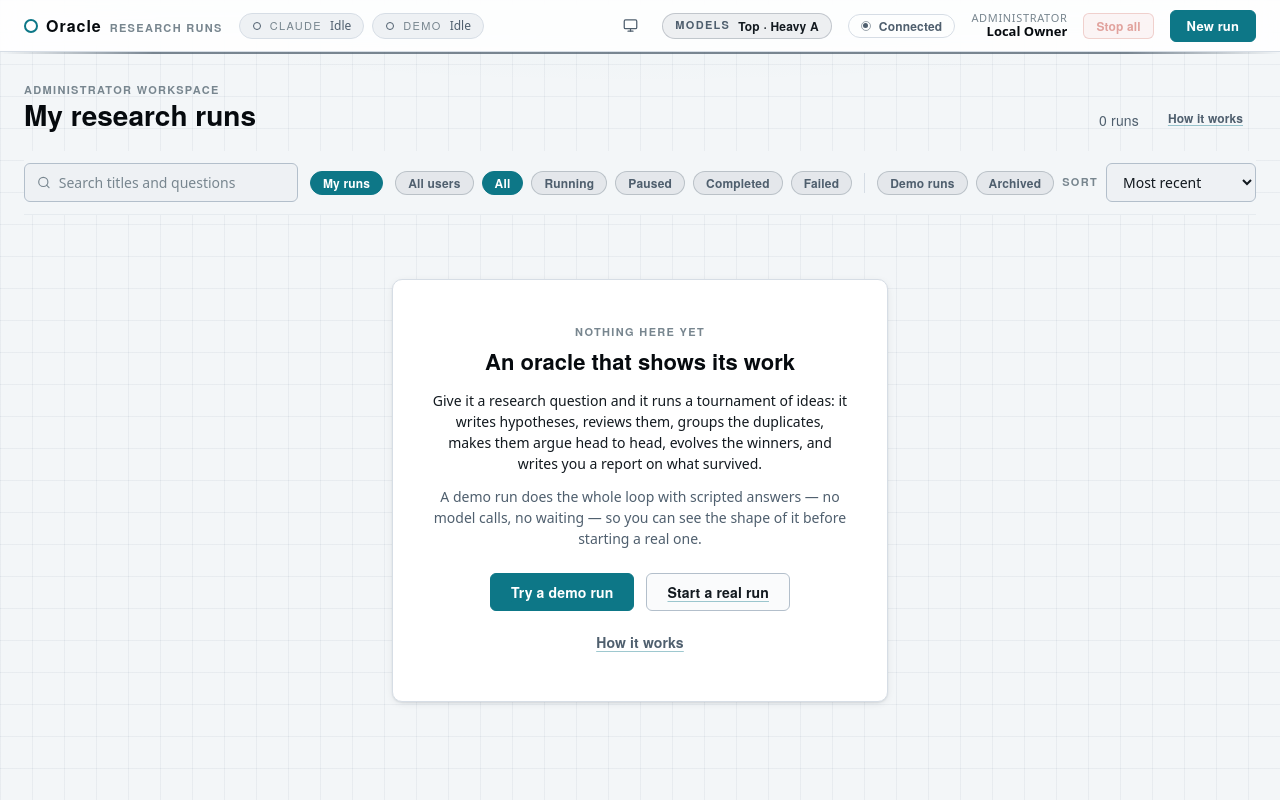
Test case: model editor — editing, resetting and saving › keeps the edit when the panel is closed and opened again
Click the button "Models Top · Heavy A" at [747, 26], box [662,12,832,38]
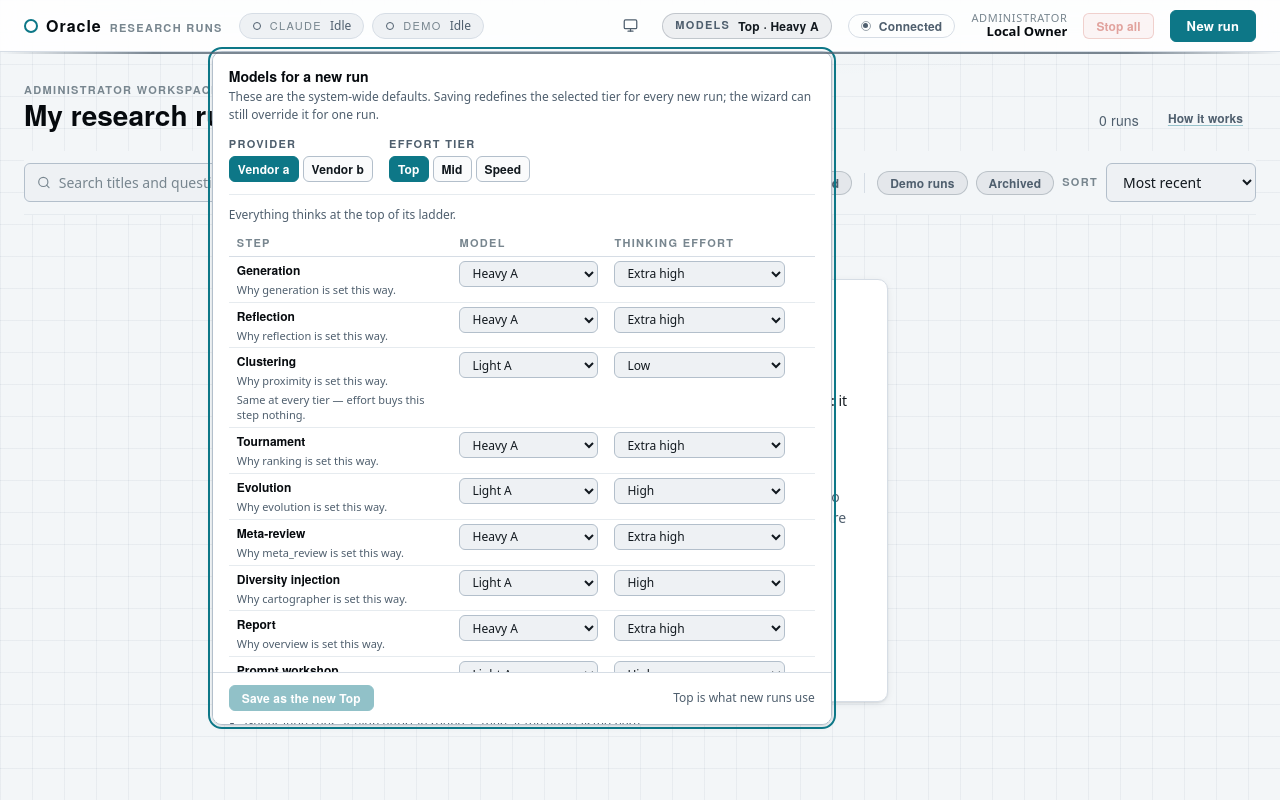
Now the 1st dropdown named "Model for Generation" is shown
Select "Light B" in the 1st dropdown named "Model for Generation" at [529, 274], box [460,261,598,287]
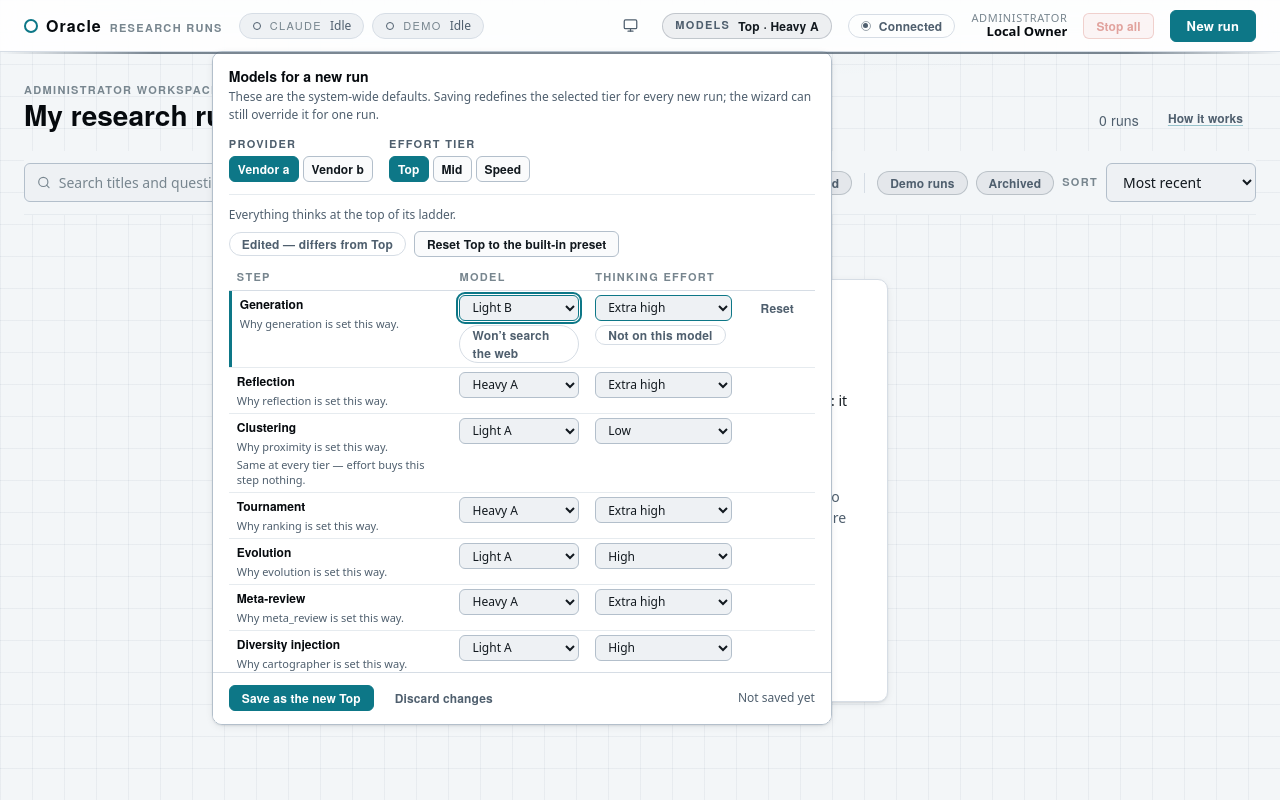
Press Escape
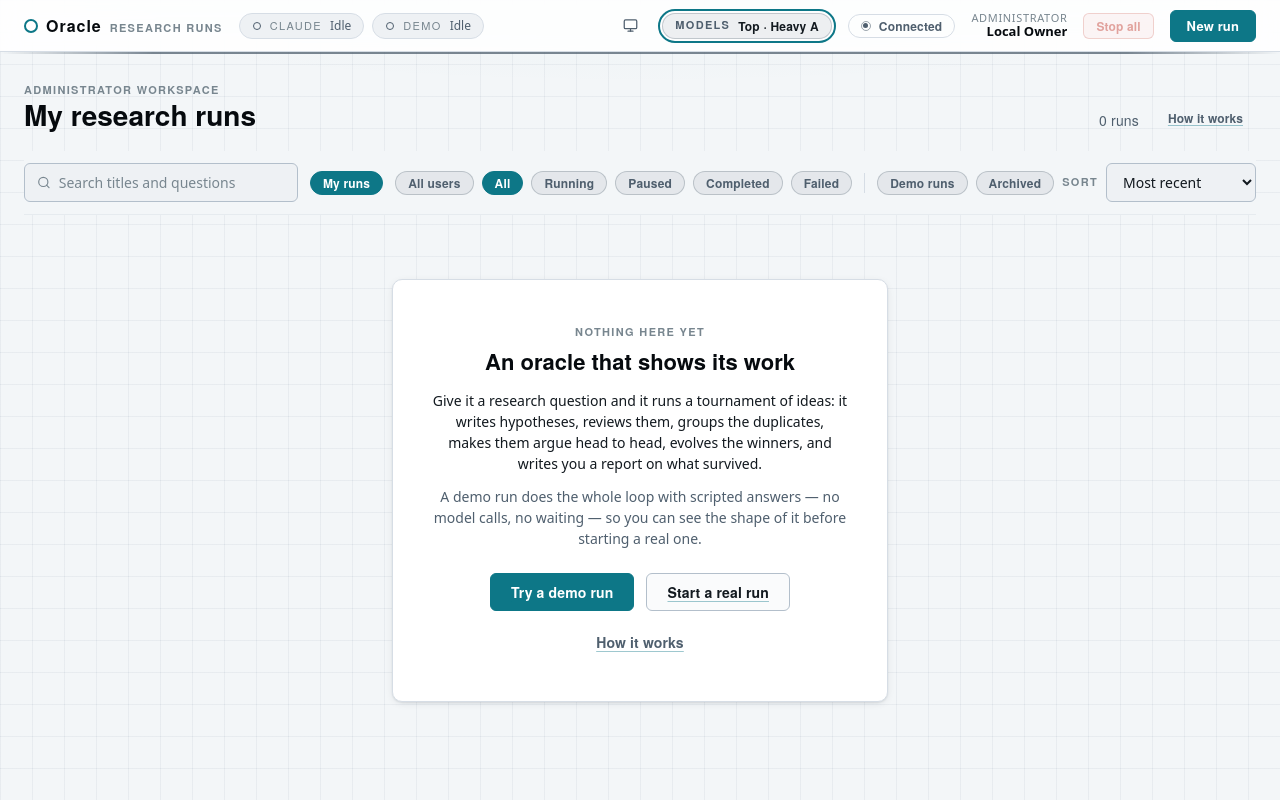
Now the heading "Models for a new run" is gone
Click the button "Models Top · Heavy A" at [747, 26], box [662,12,832,38]
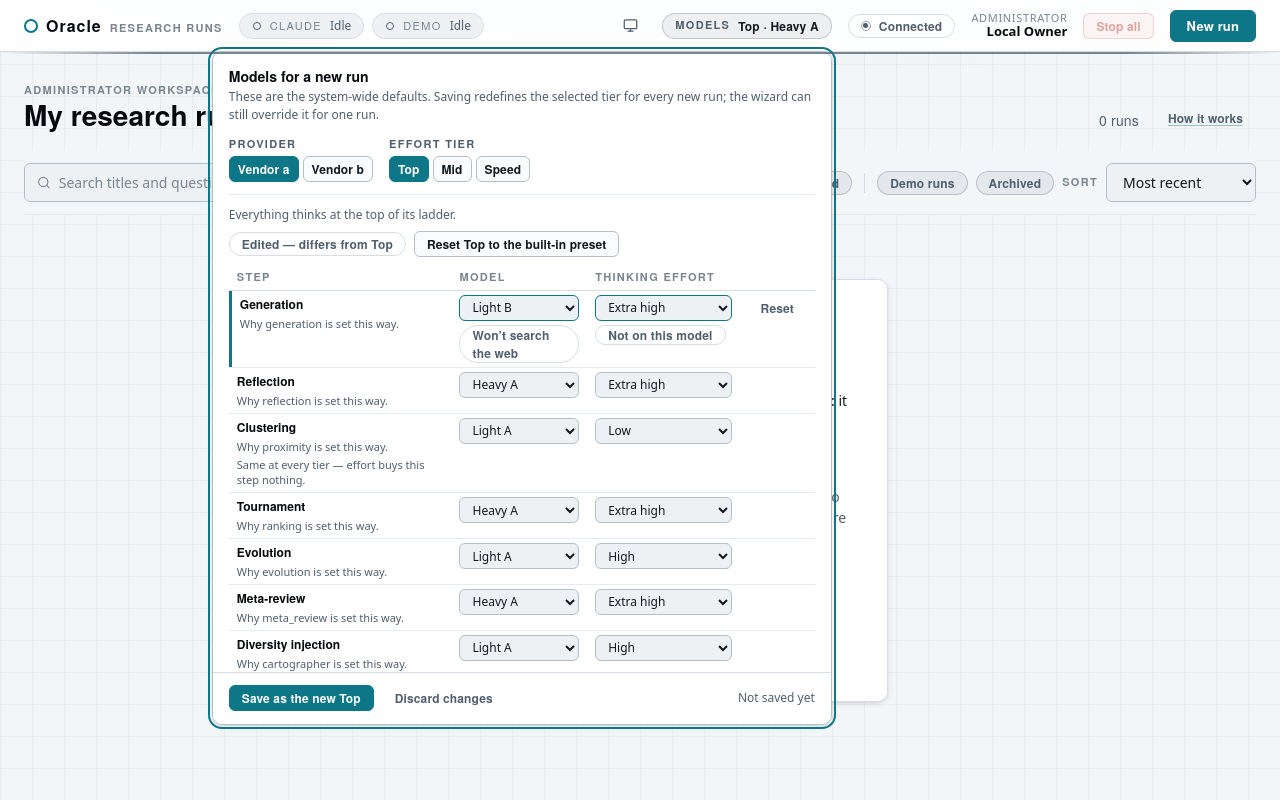
Now the 1st dropdown named "Model for Generation" shows "Light B", box [460,295,579,321]
